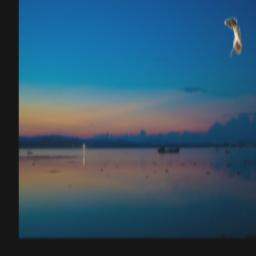Cuckoo: (224, 19, 242, 57)
